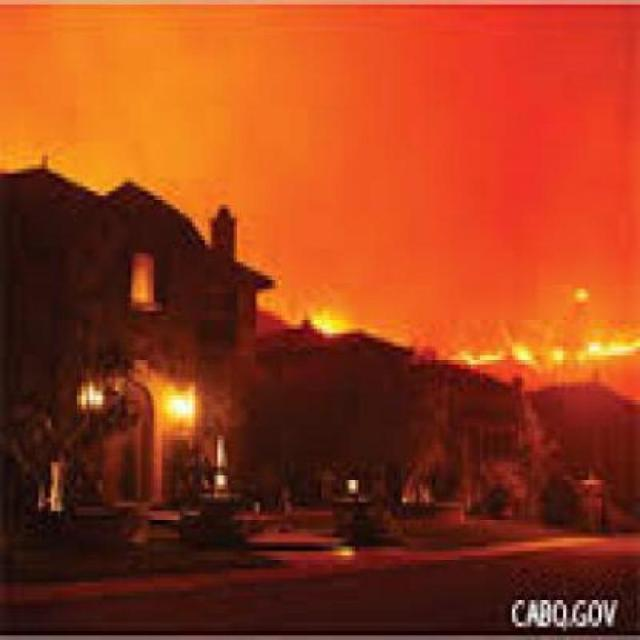Fire: (256, 262, 639, 406), (103, 299, 220, 501)
